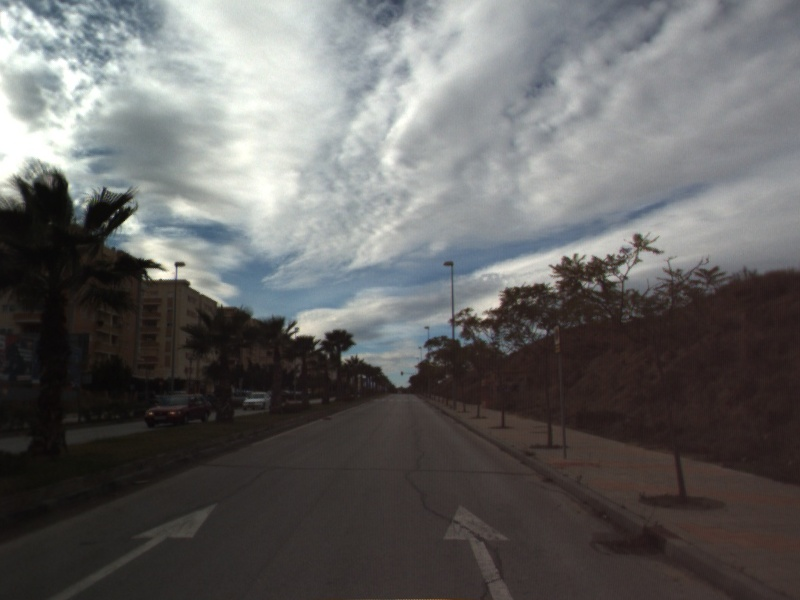STRAIGHT: (45, 500, 220, 600), (440, 502, 516, 600)
